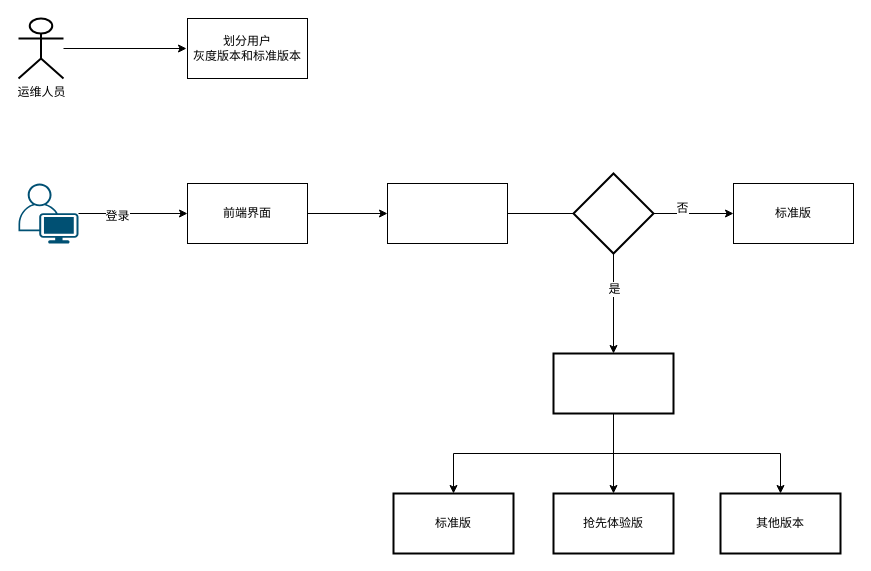
This 871x571 diagram has some shape labels left out. Each missing label, with the centre of its shape:
"istio-gateway" belongs at point 447,213.
"判断 cookie: appMode" belongs at point 613,383.
"是否携带cookie" belongs at point 613,213.
"用户" belongs at point 48,213.
